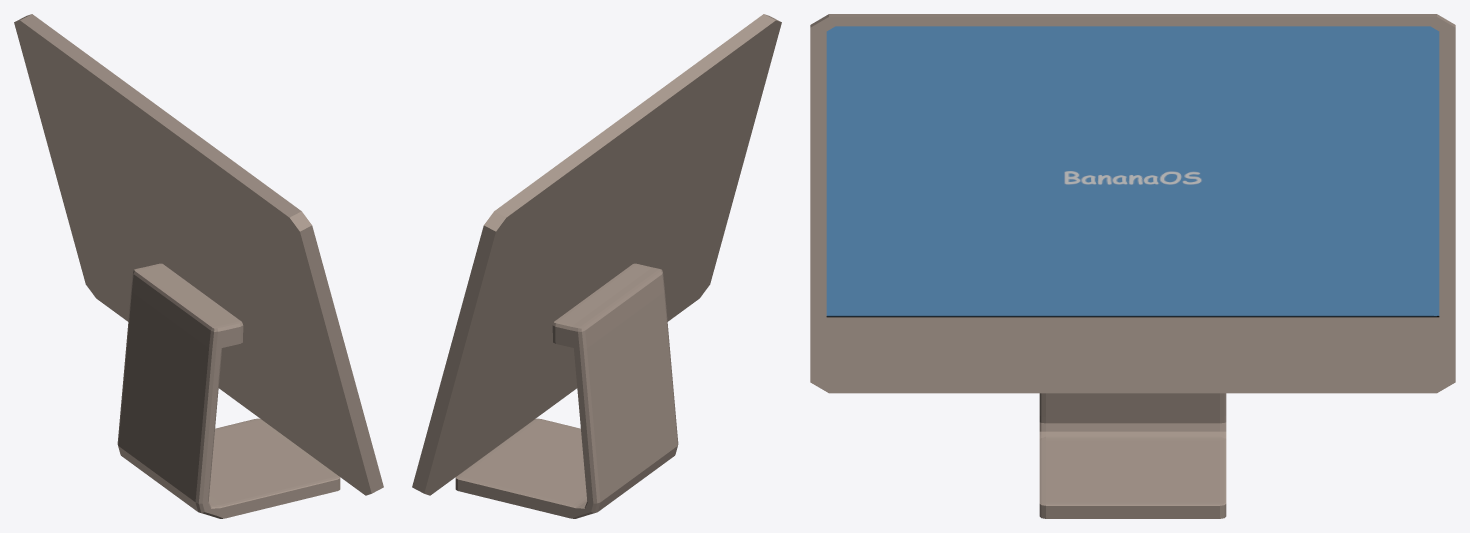
The model's file is DesktopMonitor2.fbx.
3 renders of one model, left to right at view 1: azimuth 30°, elevation 25°; view 2: azimuth 150°, elevation 25°; view 3: azimuth 270°, elevation 25°, orthographic. The views are drawn at different scales.
Parts seen in each view (by area): view 1: Monitor, Stand; view 2: Monitor, Stand; view 3: Screen, Monitor, Stand.
Part boxes in pixels (box(x1,y1,x2,y2)): Monitor: box(14, 14, 383, 495); Stand: box(117, 263, 340, 518); Monitor: box(412, 14, 781, 495); Stand: box(455, 263, 678, 518); Screen: box(826, 26, 1439, 317); Monitor: box(810, 14, 1455, 393); Stand: box(1039, 393, 1226, 518).
Size of the model in its own units: 265 by 78.49 by 195.
2 materials, 1 textured.
